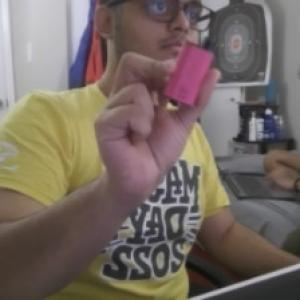Blume-E-Ciggirate: (161, 33, 218, 107)
